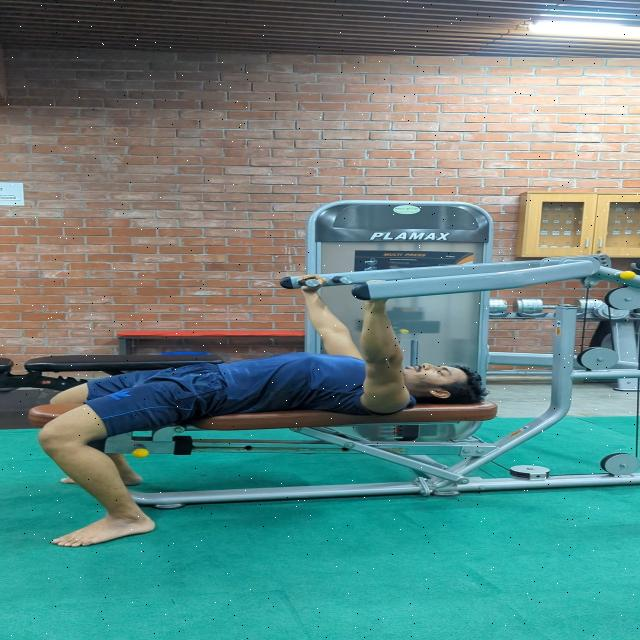Normal_BrenchPress: (24, 271, 514, 550)
